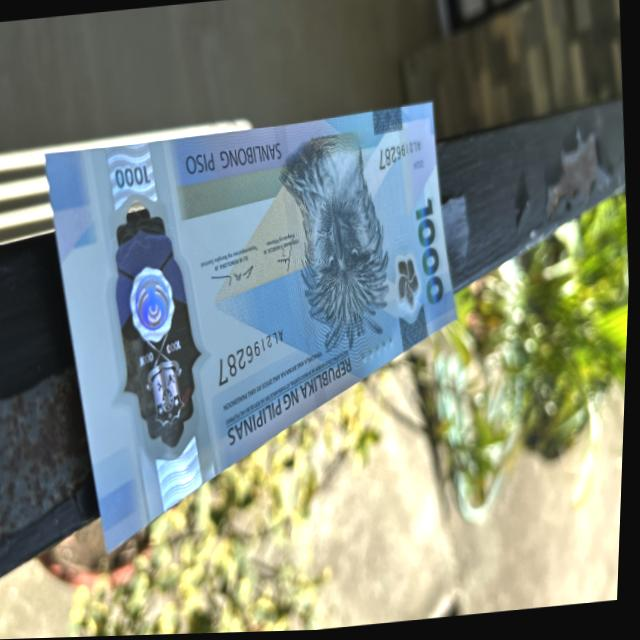clear_window: (109, 181, 209, 451)
eagle: (286, 127, 406, 364)
value: (410, 196, 451, 326)
